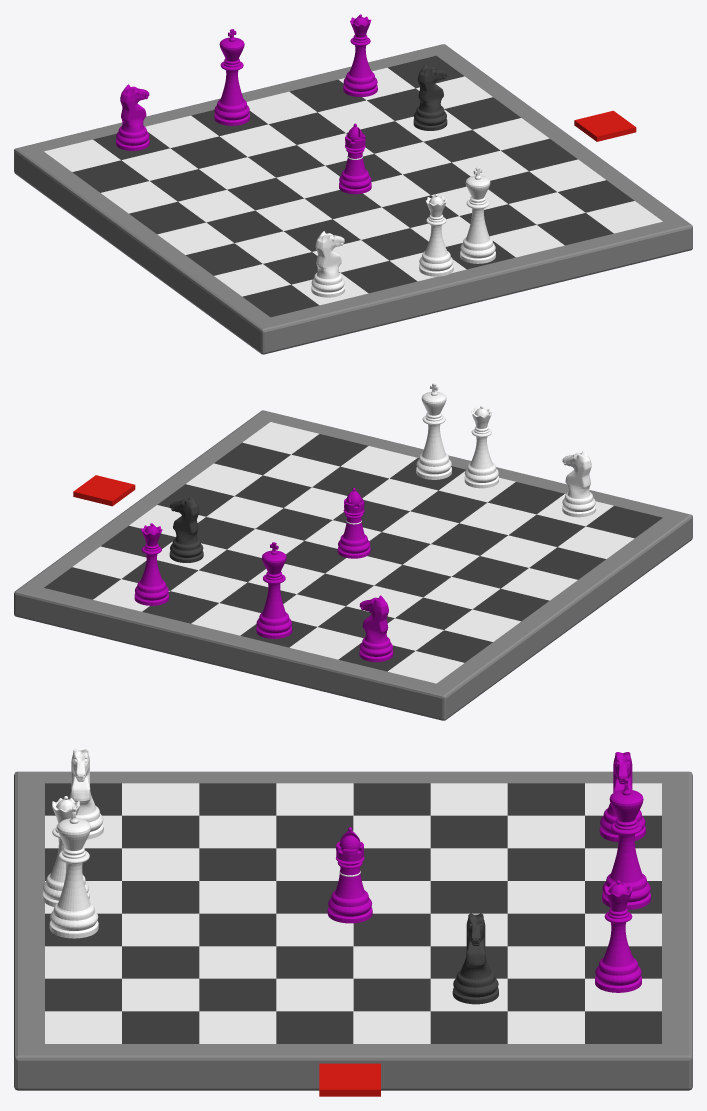
File: chess.gltf
3 views of the same model, one above another, from view 1: azimuth 30°, elevation 25°; view 2: azimuth 150°, elevation 25°; view 3: azimuth 270°, elevation 25° (orthographic). The views are drawn at different scales.
Visible parts, largest first — view 1: Grid000, Grid000_1, Grid000_2, Knight001 (×2), King, King001, Knight, Queen, Queen001, Rook, Cube; view 2: Grid000_1, Grid000, Grid000_2, Knight001 (×2), King001, King, Knight, Queen001, Queen, Rook, Cube; view 3: Grid000, Grid000_1, Grid000_2, Knight001 (×2), King, King001, Queen001, Rook, Cube, Knight, Queen.
Part boxes in pixels (x1=…): Grid000: x1=44, y1=67, x2=662, y2=305; Grid000_1: x1=72, y1=55, x2=634, y2=317; Grid000_2: x1=14, y1=44, x2=692, y2=354; Knight001 (×2): x1=116, y1=64, x2=447, y2=150; King: x1=460, y1=167, x2=495, y2=263; King001: x1=214, y1=29, x2=249, y2=125; Knight: x1=311, y1=231, x2=344, y2=297; Queen: x1=419, y1=194, x2=453, y2=276; Queen001: x1=343, y1=14, x2=377, y2=96; Rook: x1=339, y1=134, x2=371, y2=194; Cube: x1=574, y1=110, x2=636, y2=141; Grid000_1: x1=44, y1=434, x2=662, y2=671; Grid000: x1=72, y1=422, x2=634, y2=683; Grid000_2: x1=14, y1=410, x2=692, y2=720; Knight001 (×2): x1=169, y1=496, x2=393, y2=661; King001: x1=256, y1=542, x2=292, y2=638; King: x1=416, y1=383, x2=451, y2=479; Knight: x1=562, y1=450, x2=595, y2=517; Queen001: x1=134, y1=523, x2=168, y2=605; Queen: x1=464, y1=405, x2=498, y2=488; Rook: x1=337, y1=498, x2=370, y2=558; Cube: x1=73, y1=475, x2=135, y2=506; Grid000: x1=45, y1=783, x2=661, y2=1043; Grid000_1: x1=45, y1=783, x2=661, y2=1043; Grid000_2: x1=14, y1=771, x2=692, y2=1090; Knight001 (×2): x1=452, y1=752, x2=645, y2=1004; King: x1=49, y1=806, x2=98, y2=938; King001: x1=602, y1=778, x2=650, y2=909; Queen001: x1=595, y1=880, x2=641, y2=992; Rook: x1=327, y1=842, x2=372, y2=923; Cube: x1=319, y1=1063, x2=380, y2=1096; Knight: x1=69, y1=749, x2=103, y2=839; Queen: x1=42, y1=796, x2=89, y2=906.
Bounding box in the file's own units: 9.9 × 2.22 × 8.8.
